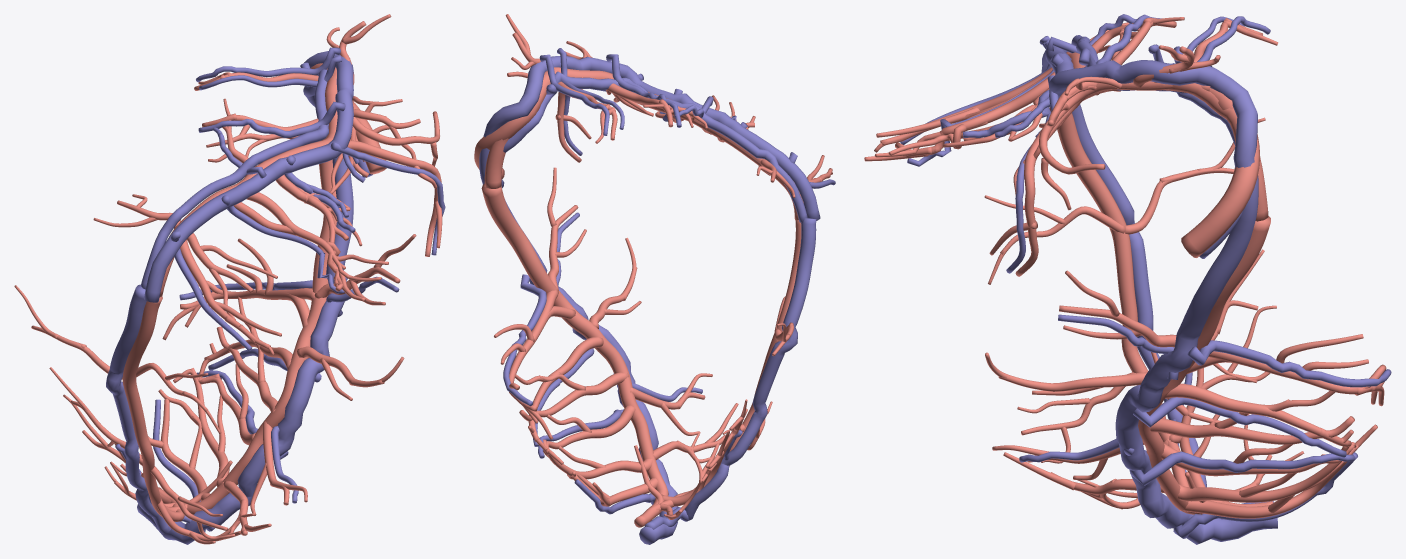
Rendered from vessels_32.glb.
The picture shows the model from 3 angles, left to right: view 1: azimuth 30°, elevation 25°; view 2: azimuth 150°, elevation 25°; view 3: azimuth 270°, elevation 25°; orthographic projection. The views are drawn at different scales.
Visible parts, largest first — view 1: Renderer Node; view 2: Renderer Node; view 3: Renderer Node.
Boxes of the visible parts, left/top/right/bottom form: Renderer Node: left=14, top=14, right=445, bottom=544; Renderer Node: left=474, top=14, right=835, bottom=544; Renderer Node: left=864, top=14, right=1391, bottom=544.
Size of the model in its own units: 84.53 by 112 by 87.43.
